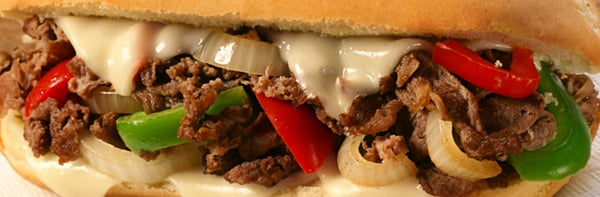curry: (116, 105, 188, 153)
